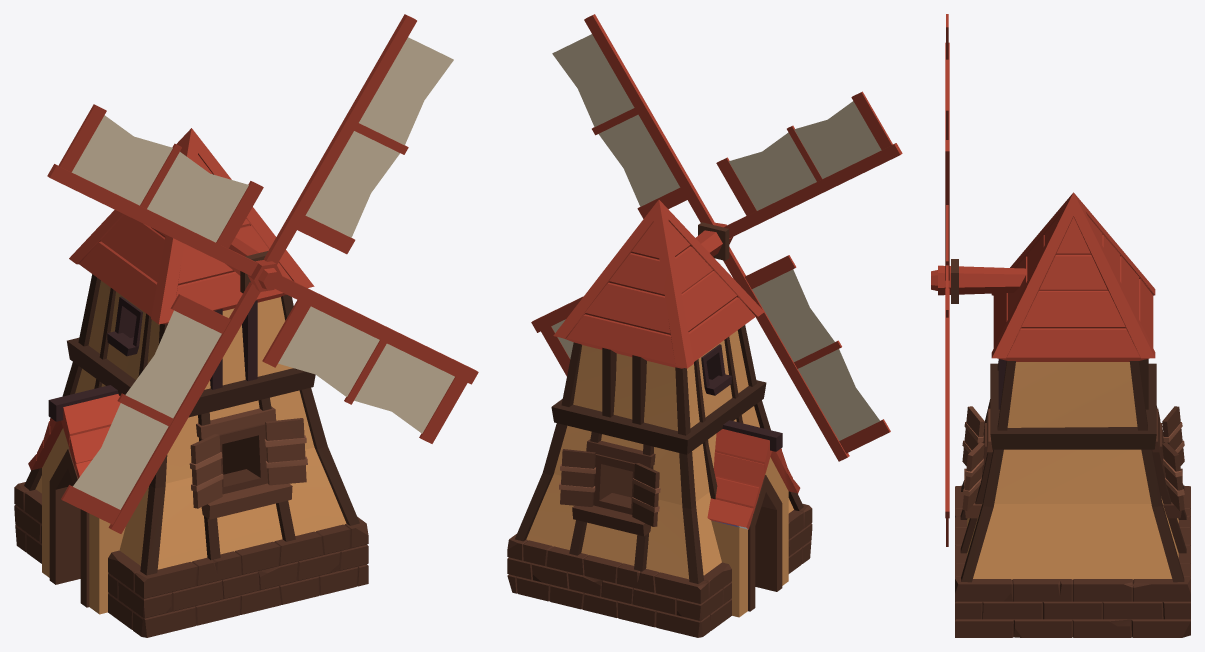
The model's file is fengche.fbx.
The picture shows the model from 3 angles, left to right: view 1: azimuth 30°, elevation 25°; view 2: azimuth 150°, elevation 25°; view 3: azimuth 270°, elevation 25°; orthographic projection. The views are drawn at different scales.
Visible parts, largest first — view 1: polySurface2359, polySurface2442; view 2: polySurface2359, polySurface2442; view 3: polySurface2359, polySurface2442.
Part boxes in pixels (x1=…): polySurface2359: x1=14, y1=128, x2=368, y2=637; polySurface2442: x1=47, y1=14, x2=478, y2=533; polySurface2359: x1=507, y1=200, x2=812, y2=637; polySurface2442: x1=531, y1=14, x2=902, y2=461; polySurface2359: x1=951, y1=192, x2=1190, y2=637; polySurface2442: x1=931, y1=14, x2=1027, y2=546.
Bounding box in the file's own units: 1033 × 1298 × 596.
